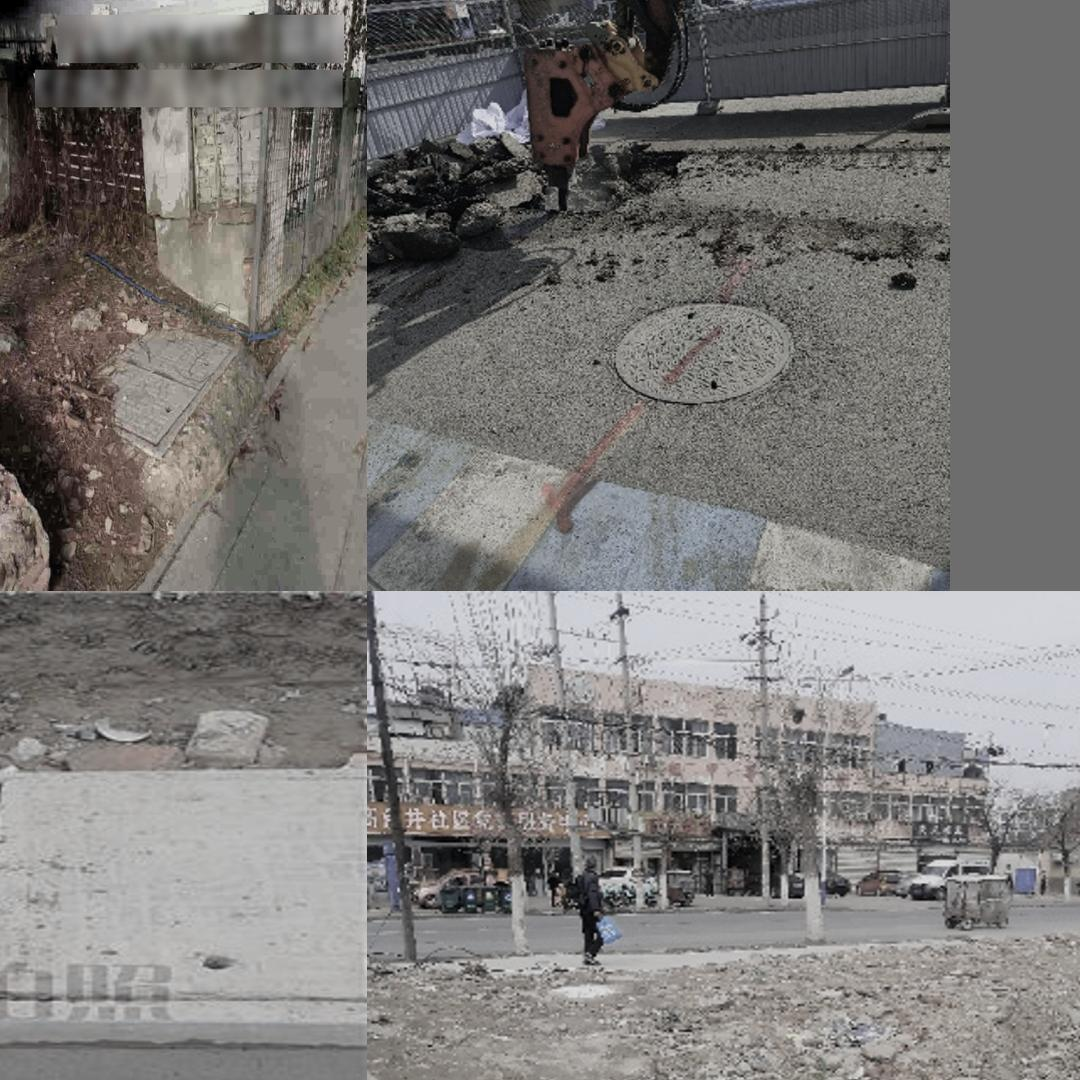good: (0, 767, 367, 1043), (84, 323, 236, 459), (612, 296, 788, 405)
